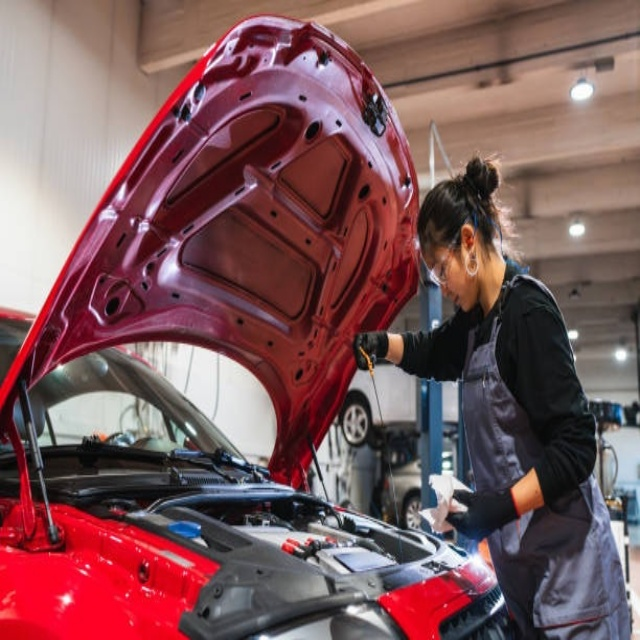Gafas: (428, 232, 460, 287)
Guantes: (445, 483, 522, 540), (354, 330, 390, 370)
Sin_mascara: (443, 289, 468, 312)
